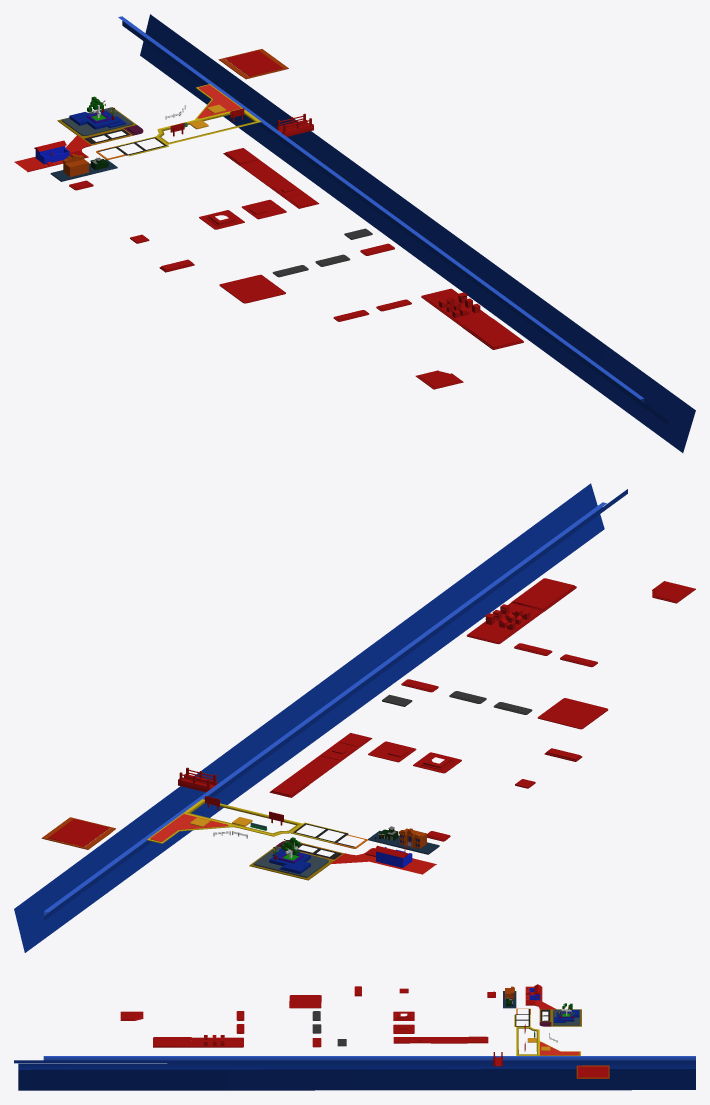
File: bg_floor_and_bg_buildings.fbx
3 views of the same model, one above another, from view 1: azimuth 30°, elevation 25°; view 2: azimuth 150°, elevation 25°; view 3: azimuth 270°, elevation 25° (orthographic). The views are drawn at different scales.
Visible parts, largest first — view 1: bg_floor_default_buildings_and_houses_m; view 2: bg_floor_default_buildings_and_houses_m; view 3: bg_floor_default_buildings_and_houses_m.
Part boxes in pixels (<box>): bg_floor_default_buildings_and_houses_m: <box>14,14,695,452</box>; bg_floor_default_buildings_and_houses_m: <box>14,483,695,952</box>; bg_floor_default_buildings_and_houses_m: <box>14,984,695,1090</box>.
Size of the model in its own units: 14377 by 3077 by 45004.
